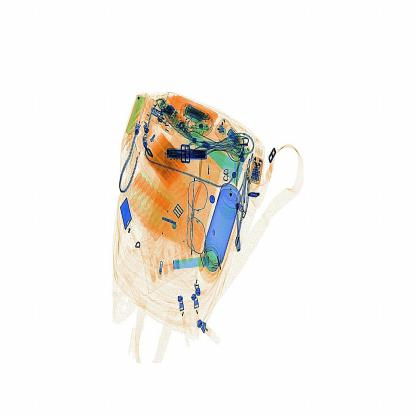scissors: (160, 140, 216, 176)
